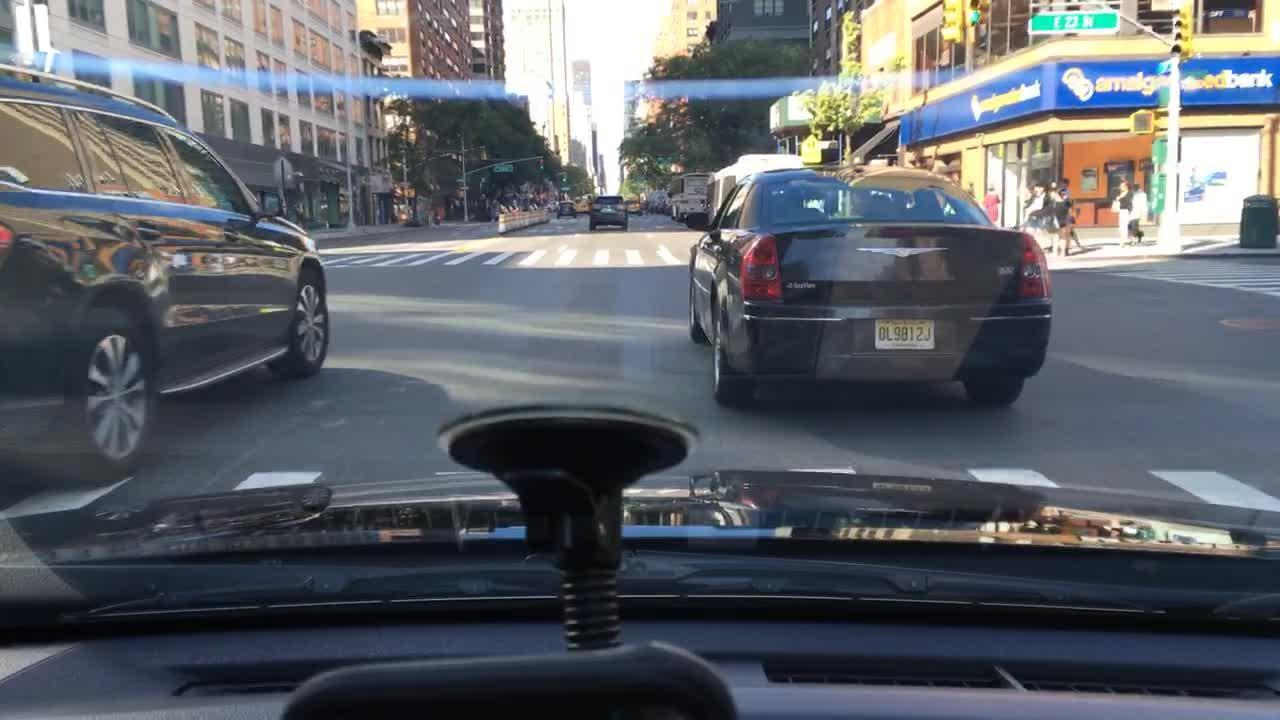Chrysler: (847, 239, 953, 265)
